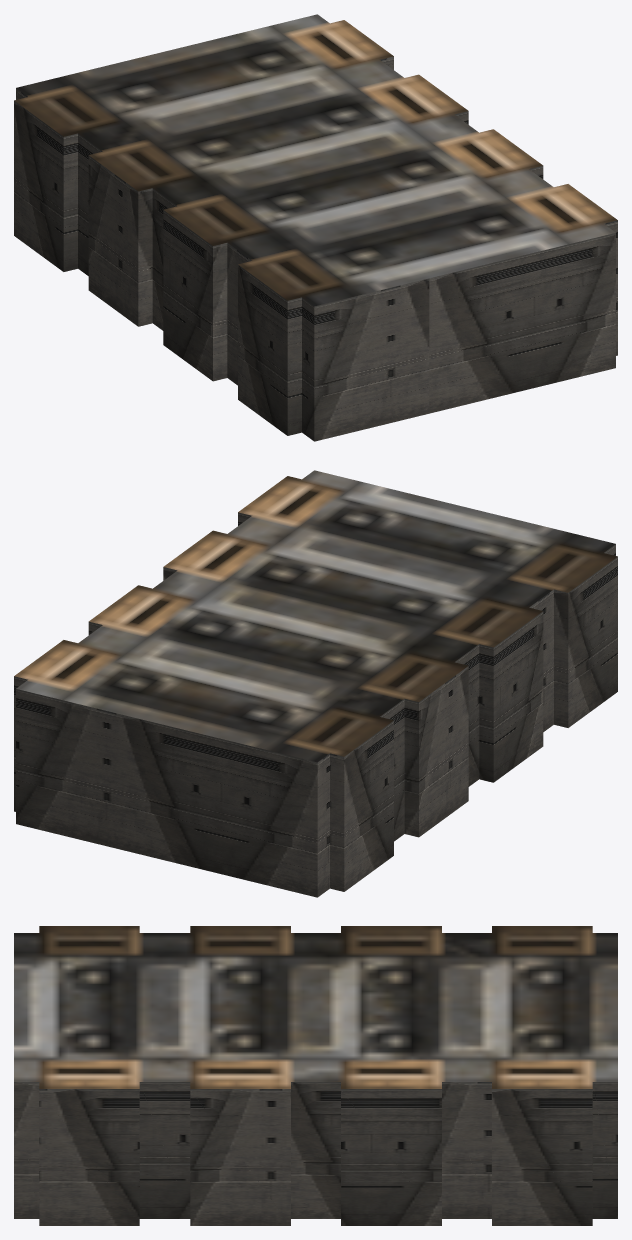
The model's file is fortress_heavy_a_09.glb.
The picture shows the model from 3 angles, top to bottom: view 1: azimuth 30°, elevation 25°; view 2: azimuth 150°, elevation 25°; view 3: azimuth 270°, elevation 25°; orthographic projection.
Parts seen in each view (by area): view 1: buildings/saxarba/fortress_heavy/fortress_heavy_a_09; view 2: buildings/saxarba/fortress_heavy/fortress_heavy_a_09; view 3: buildings/saxarba/fortress_heavy/fortress_heavy_a_09.
Part boxes in pixels (left/top/right/bottom): buildings/saxarba/fortress_heavy/fortress_heavy_a_09: left=14, top=14, right=617, bottom=441; buildings/saxarba/fortress_heavy/fortress_heavy_a_09: left=14, top=470, right=617, bottom=897; buildings/saxarba/fortress_heavy/fortress_heavy_a_09: left=14, top=926, right=617, bottom=1225.
Size of the model in its own units: 46 by 18 by 72.
